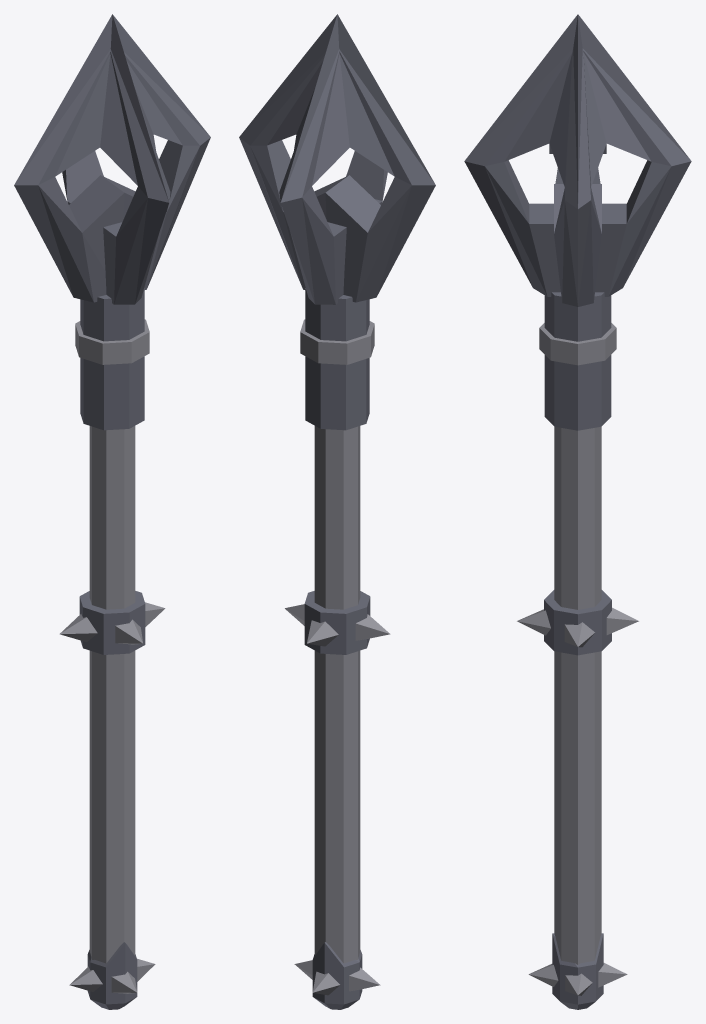
The model's file is hammer_hammer_5.glb.
3 views of the same model, side by side, from view 1: azimuth 30°, elevation 25°; view 2: azimuth 150°, elevation 25°; view 3: azimuth 270°, elevation 25° (orthographic).
Visible parts, largest first — view 1: hammer_5; view 2: hammer_5; view 3: hammer_5.
Boxes of the visible parts, x1,y1,x2,y2 form: hammer_5: (14, 14, 210, 1009); hammer_5: (239, 14, 435, 1009); hammer_5: (464, 14, 691, 1009).
Size of the model in its own units: 15.86 by 76.25 by 15.86.
Materials: 1 (1 with a texture image).
